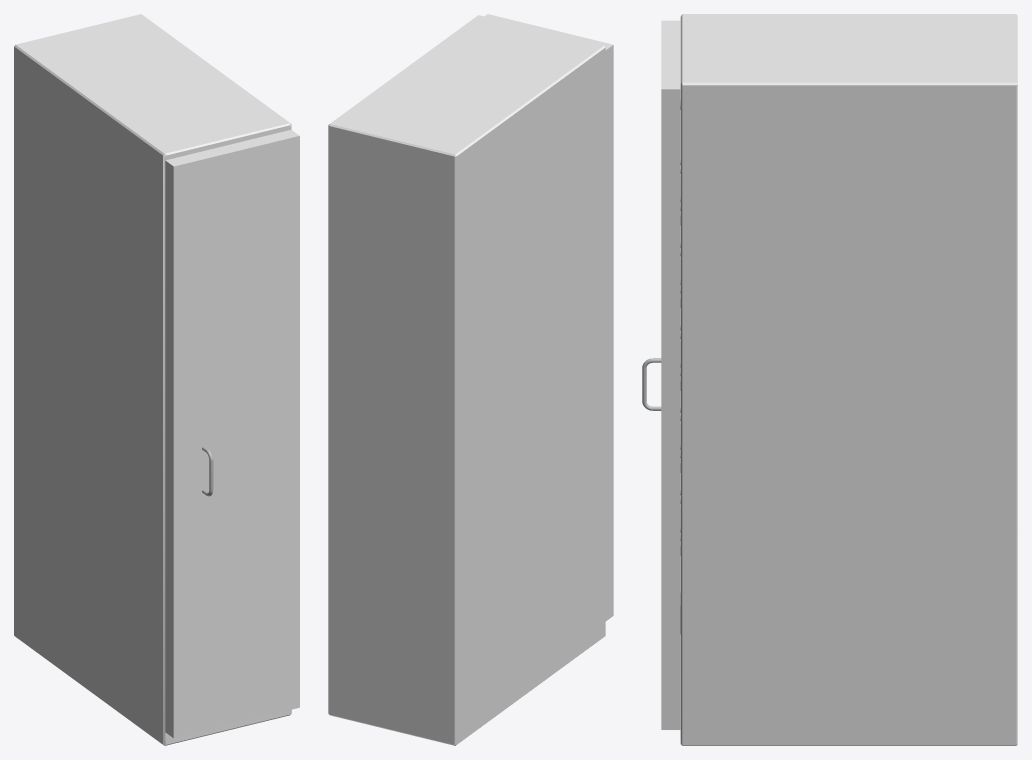
Rendered from pharmacist_cabinet_closed.gltf.
3 views of the same model, side by side, from view 1: azimuth 30°, elevation 25°; view 2: azimuth 150°, elevation 25°; view 3: azimuth 270°, elevation 25° (orthographic). The views are drawn at different scales.
Visible parts, largest first — view 1: Cube.030, Cube.031; view 2: Cube.030, Cube.031; view 3: Cube.030, Cube.031.
Part boxes in pixels (x1,y1,x2,y2): Cube.030: (14,14,291,745); Cube.031: (165,129,299,738); Cube.030: (328,15,605,745); Cube.031: (485,14,613,621); Cube.030: (680,14,1017,745); Cube.031: (642,20,680,729).
Bounding box in the file's own units: 0.9128 × 4.02 × 2.06.
2 materials, 2 textured.
